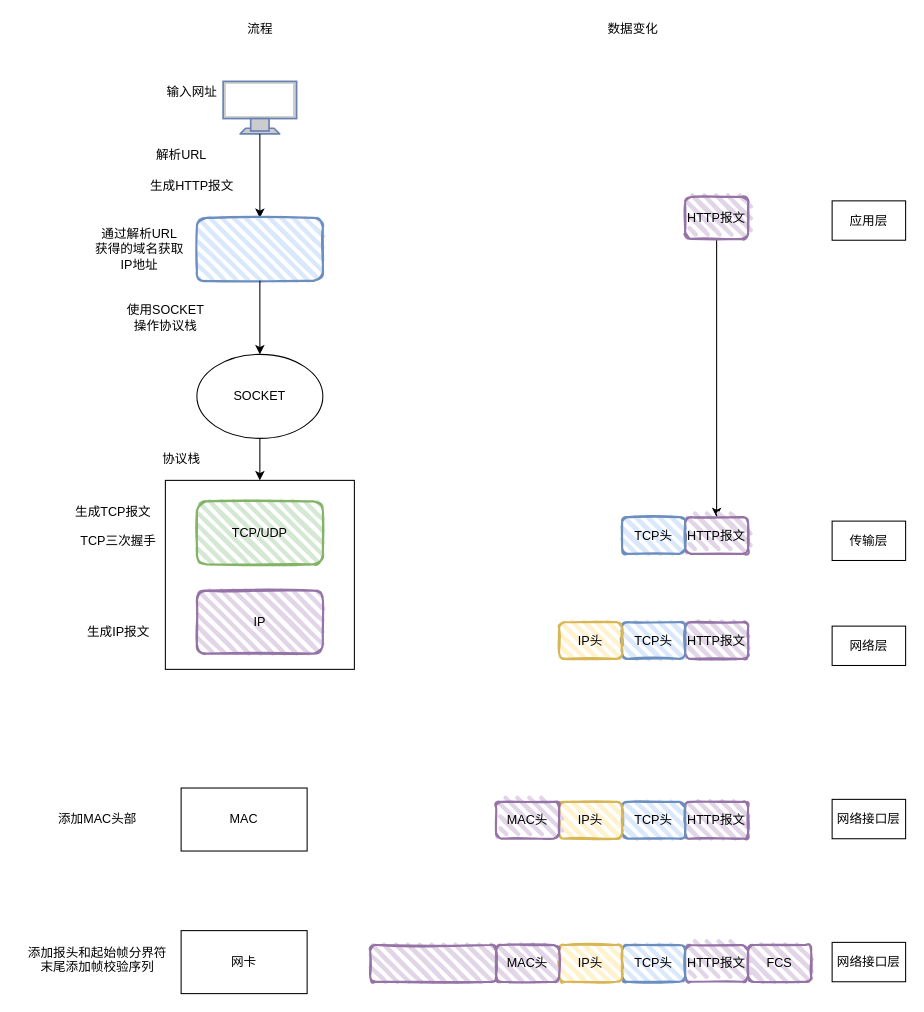
This 924x1012 diagram has some shape labels left out. Here are the shapes that lost their labels. From the top down, the box of each, then its label:
(195, 216, 323, 281): DNS
(369, 943, 497, 982): 报头和起始帧分界符
